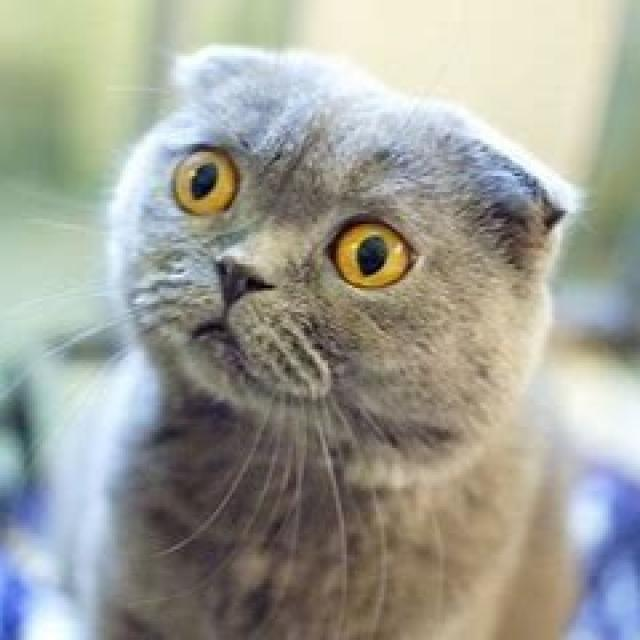Surprised: (151, 111, 445, 416)
